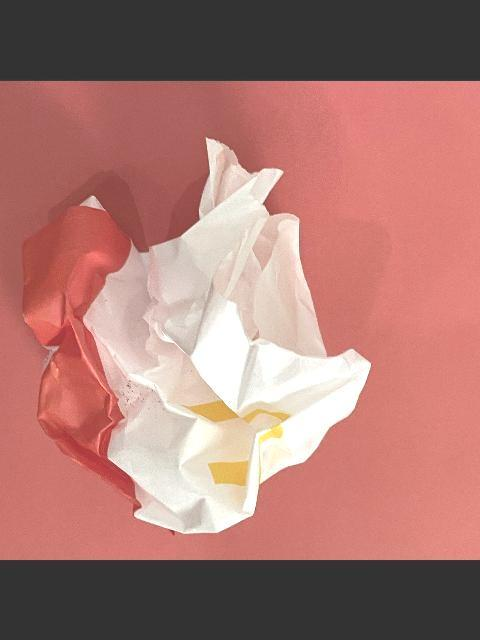paperbag: (20, 136, 374, 536)
